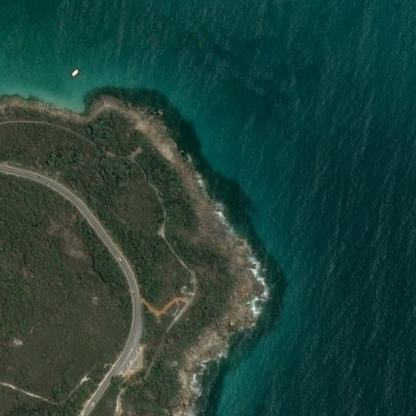ship: (63, 62, 86, 80)
